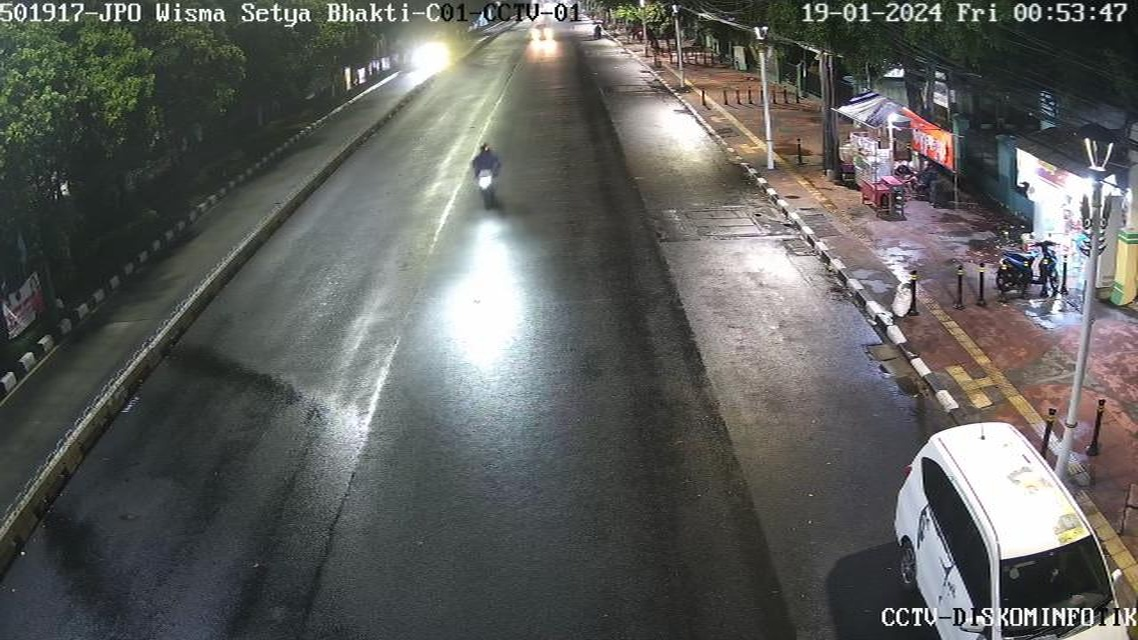Gerobak: (839, 71, 909, 128)
